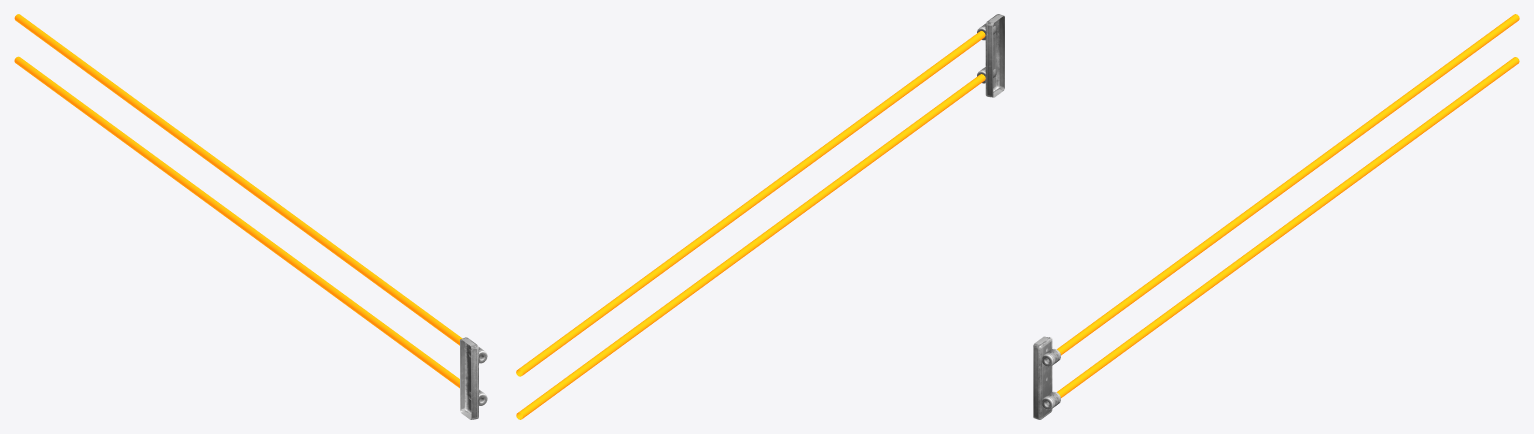
The model's file is SM_neon_straight_1_004.fbx.
3 views of the same model, side by side, from view 1: azimuth 30°, elevation 25°; view 2: azimuth 150°, elevation 25°; view 3: azimuth 330°, elevation 25° (orthographic).
Parts seen in each view (by area): view 1: SM_Update_neon_straight_1_004_v001; view 2: SM_Update_neon_straight_1_004_v001; view 3: SM_Update_neon_straight_1_004_v001.
Boxes of the visible parts, x1,y1,x2,y2 form: SM_Update_neon_straight_1_004_v001: (14, 14, 487, 419); SM_Update_neon_straight_1_004_v001: (516, 14, 1004, 419); SM_Update_neon_straight_1_004_v001: (1033, 14, 1519, 419).
Bounding box in the file's own units: 0.0674 × 0.264 × 3.02.
Materials: 1 (1 with a texture image).
